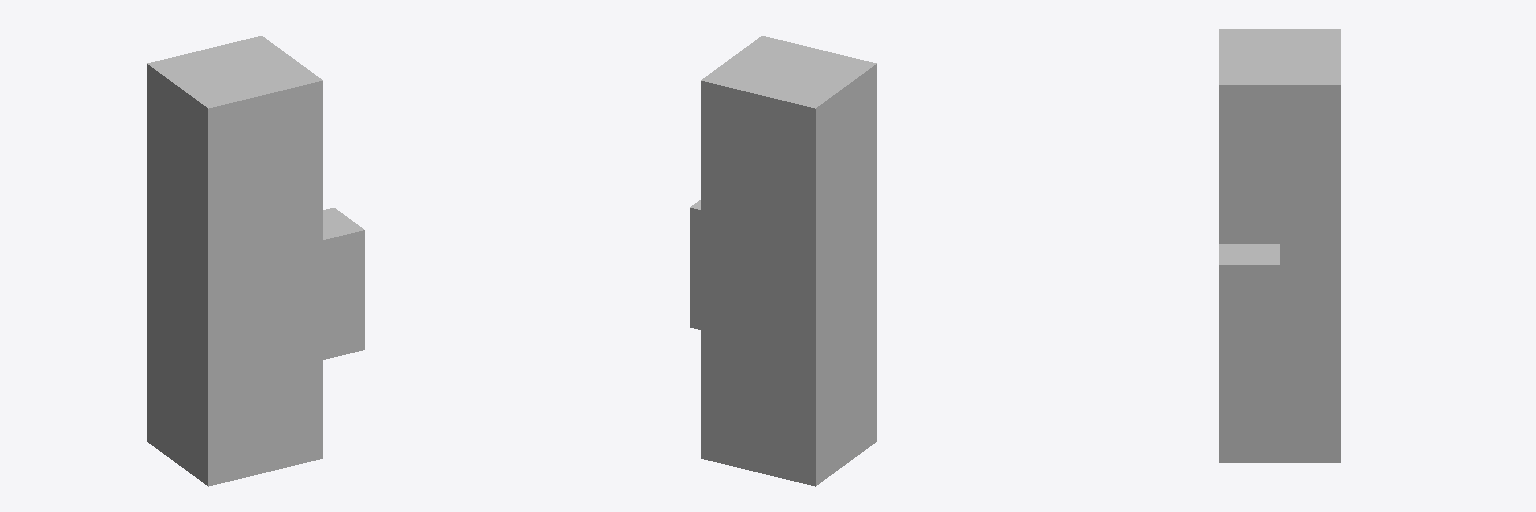
Rendered from rettangolostrano.obj.
3 views of the same model, side by side, from view 1: azimuth 30°, elevation 25°; view 2: azimuth 150°, elevation 25°; view 3: azimuth 270°, elevation 25° (orthographic).
Visible parts, largest first — view 1: object_1; view 2: object_1; view 3: object_1.
Boxes of the visible parts, x1=… form: object_1: x1=147, y1=36, x2=364, y2=486; object_1: x1=690, y1=36, x2=876, y2=486; object_1: x1=1219, y1=29, x2=1340, y2=462.
Bounding box in the file's own units: 18.03 × 41.58 × 12.26.